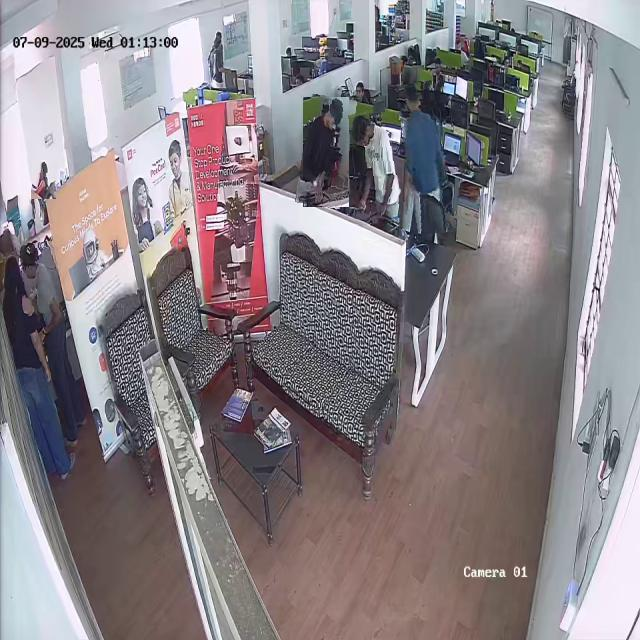person: (401, 81, 451, 235), (299, 96, 353, 208), (350, 112, 401, 225), (3, 256, 26, 414), (22, 241, 62, 328), (32, 161, 56, 199)
